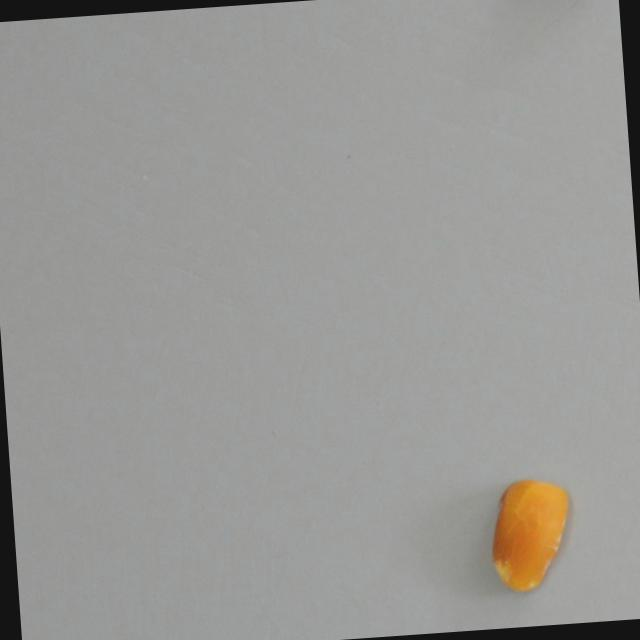dañado: (480, 465, 579, 601)
